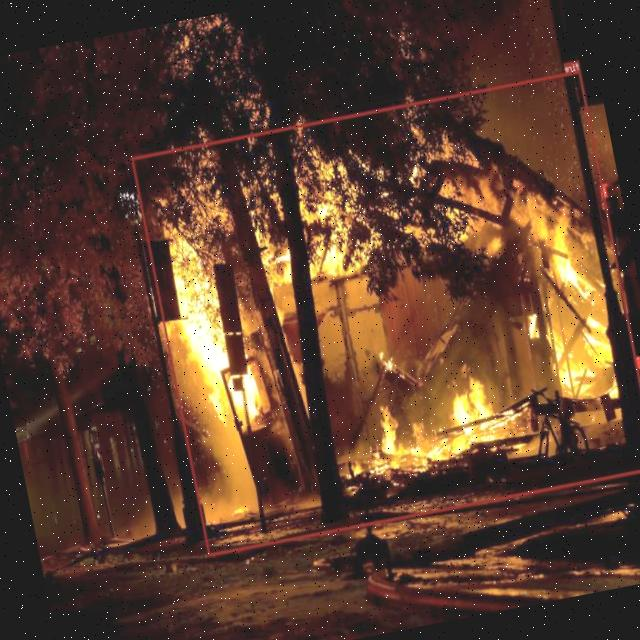fire: (131, 69, 640, 556)
